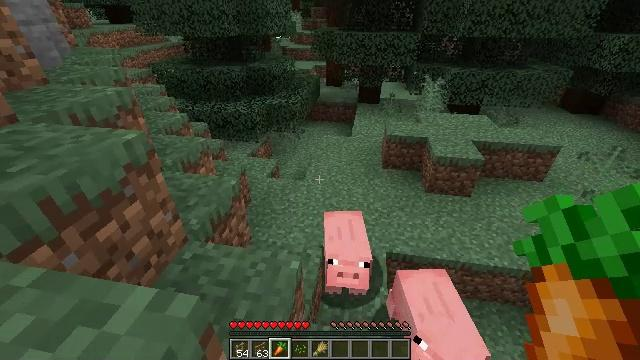pig: (385, 269, 490, 360), (324, 209, 372, 297)
